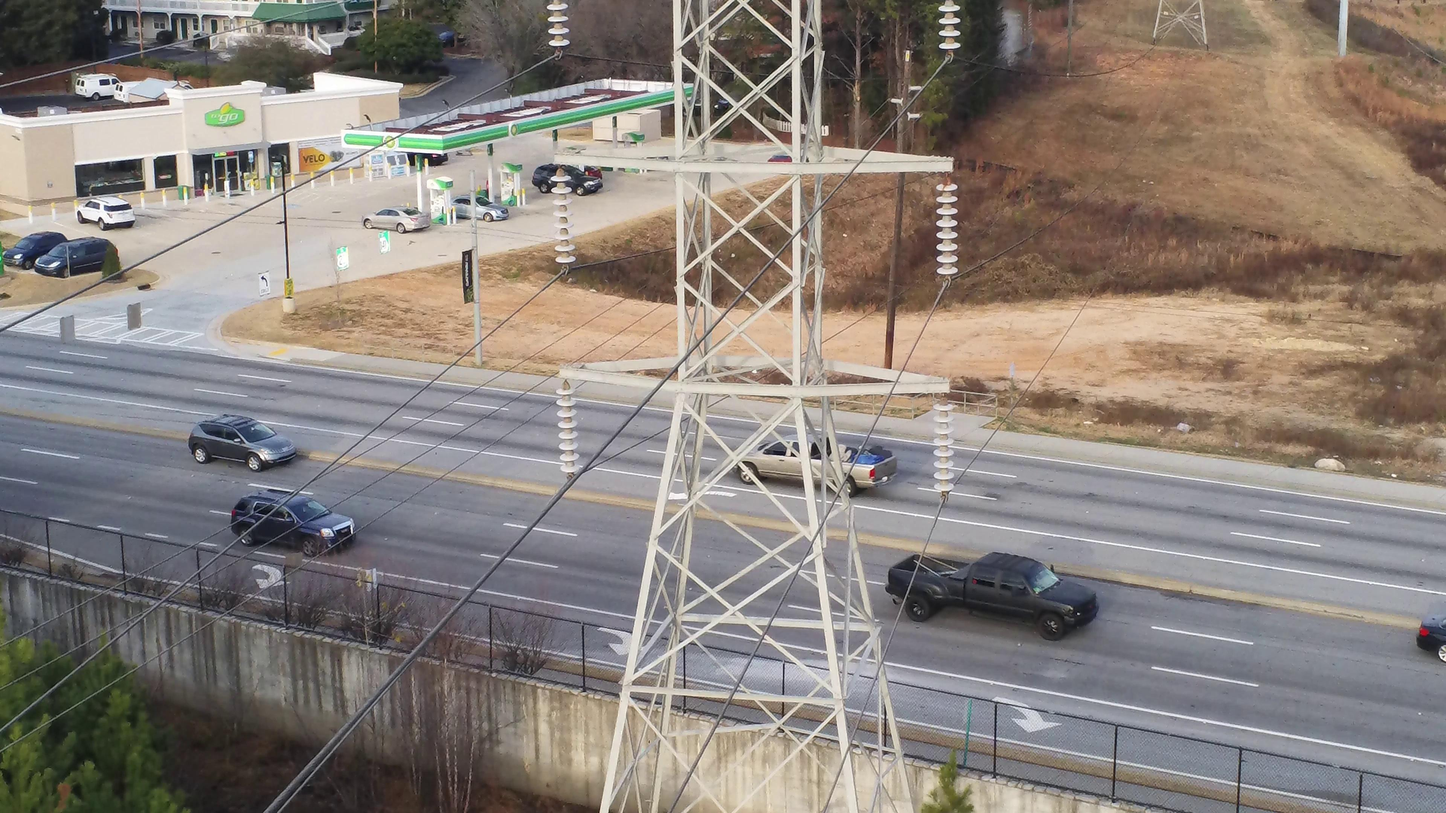power_tower: (547, 0, 961, 813), (1154, 1, 1209, 51)
